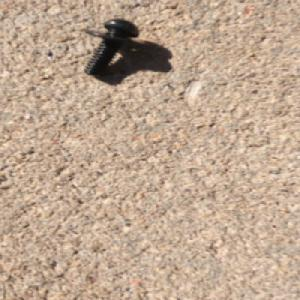BoltWasher: (80, 17, 142, 77)
